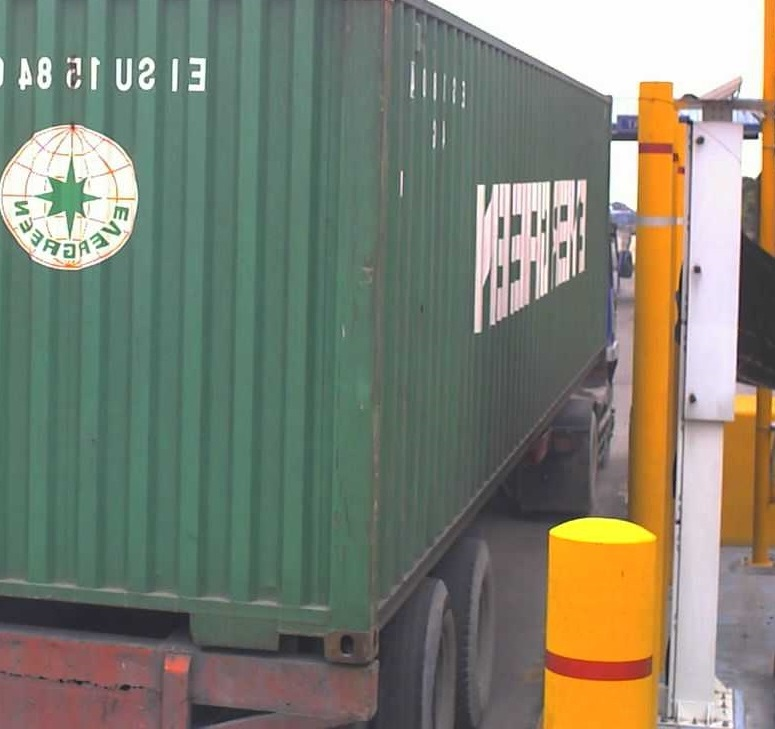container_no_door: (5, 1, 378, 663)
